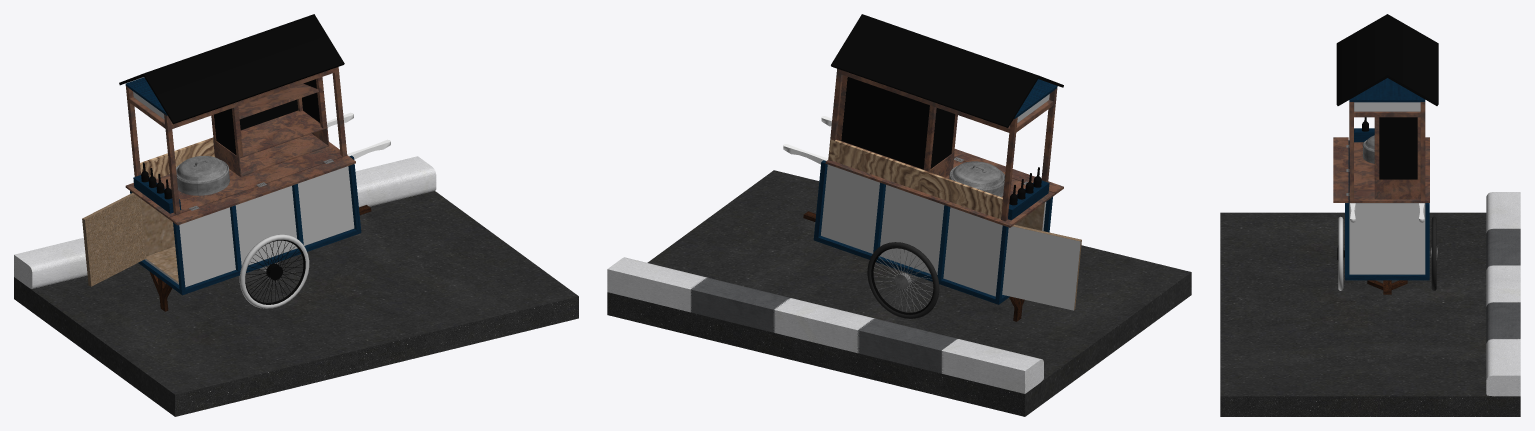
The model's file is Gerobak Bakso.fbx.
3 renders of one model, left to right at view 1: azimuth 30°, elevation 25°; view 2: azimuth 150°, elevation 25°; view 3: azimuth 270°, elevation 25°, orthographic. The views are drawn at different scales.
Visible parts, largest first — view 1: road, main_body, roof, side_road, stove_door, foodbox, holder_pillar_1, bodybase, wood_frame, flipable_plank, Torus, glass (+9 smaller); view 2: road, side_road, main_body, roof, glass_wide, stove_door, edge_plank, holder_pillar_1, wood_frame, bodybase, wheel_and_rim, pot_cap (+7 smaller); view 3: road, side_road, roof, main_body, glass, holder_pillar_1, bodybase, wood_frame, top_plank, flipable_plank, foodbox, foodstock_stand (+3 smaller).
Boxes of the visible parts, <box> form: road: <box>14,191,578,416</box>; main_body: <box>141,166,354,287</box>; roof: <box>119,14,344,124</box>; side_road: <box>14,156,436,288</box>; stove_door: <box>82,193,146,286</box>; foodbox: <box>213,110,329,176</box>; holder_pillar_1: <box>126,67,347,214</box>; bodybase: <box>125,142,347,218</box>; wood_frame: <box>130,155,361,295</box>; flipable_plank: <box>169,155,355,225</box>; Torus: <box>239,234,309,308</box>; glass: <box>214,79,320,154</box>; road: <box>607,170,1191,416</box>; side_road: <box>607,257,1043,393</box>; main_body: <box>821,164,1046,296</box>; roof: <box>831,14,1063,127</box>; glass_wide: <box>841,77,929,169</box>; stove_door: <box>1002,224,1081,310</box>; edge_plank: <box>828,139,1002,219</box>; holder_pillar_1: <box>828,68,1057,221</box>; wood_frame: <box>813,160,1052,304</box>; bodybase: <box>825,158,1054,227</box>; wheel_and_rim: <box>867,242,939,318</box>; pot_cap: <box>951,161,1004,188</box>; road: <box>1220,212,1520,416</box>; side_road: <box>1486,192,1520,396</box>; roof: <box>1336,14,1438,105</box>; main_body: <box>1349,203,1425,274</box>; glass: <box>1379,117,1417,179</box>; holder_pillar_1: <box>1349,102,1425,200</box>; bodybase: <box>1349,137,1429,202</box>; wood_frame: <box>1345,140,1429,280</box>; top_plank: <box>1349,78,1425,102</box>; flipable_plank: <box>1333,137,1348,202</box>; foodbox: <box>1374,179,1420,199</box>; foodstock_stand: <box>1374,117,1420,179</box>.
Bounding box in the file's own units: 1145 × 763 × 791.
Materials: 37 (33 with a texture image).
